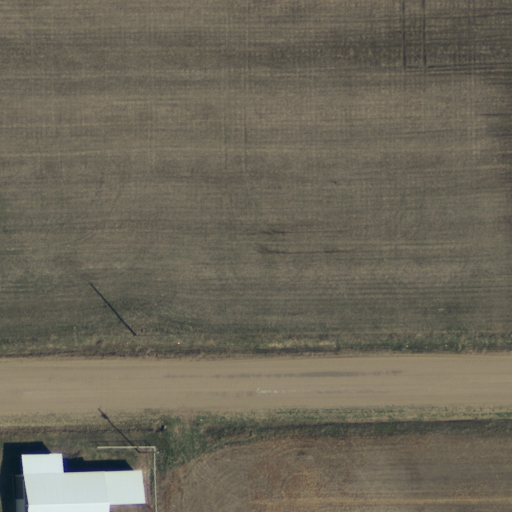DT: (132, 439, 162, 463), (121, 325, 147, 346)
